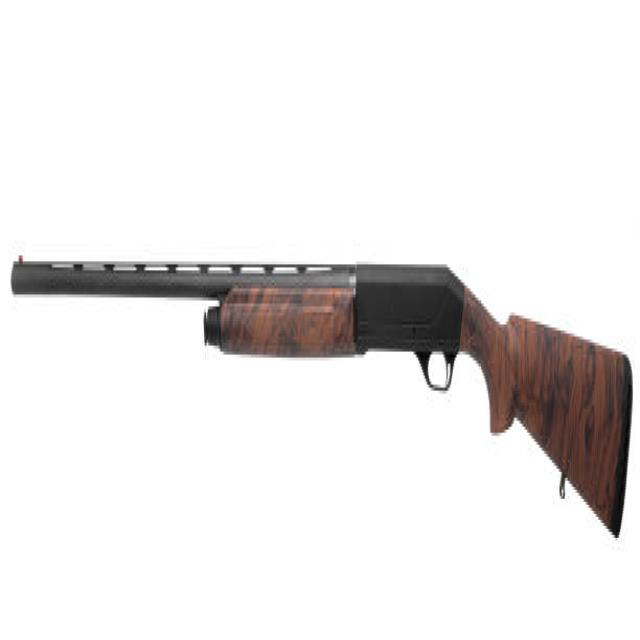rifle: (9, 247, 638, 536)
